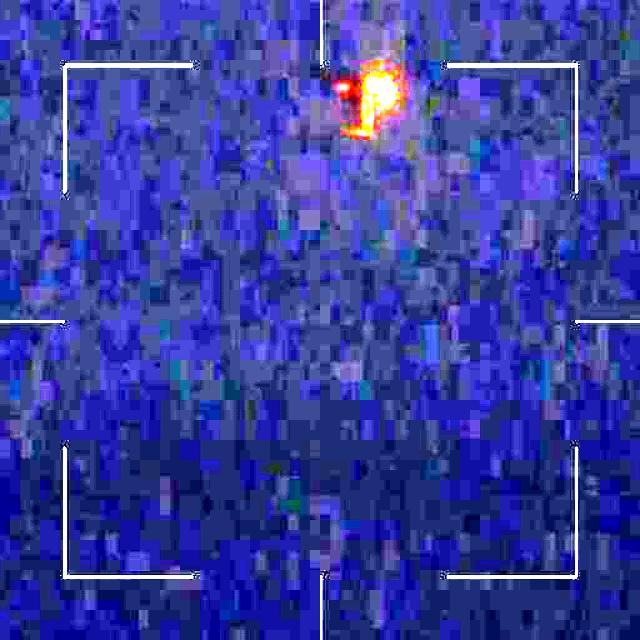bird: (322, 70, 395, 132)
